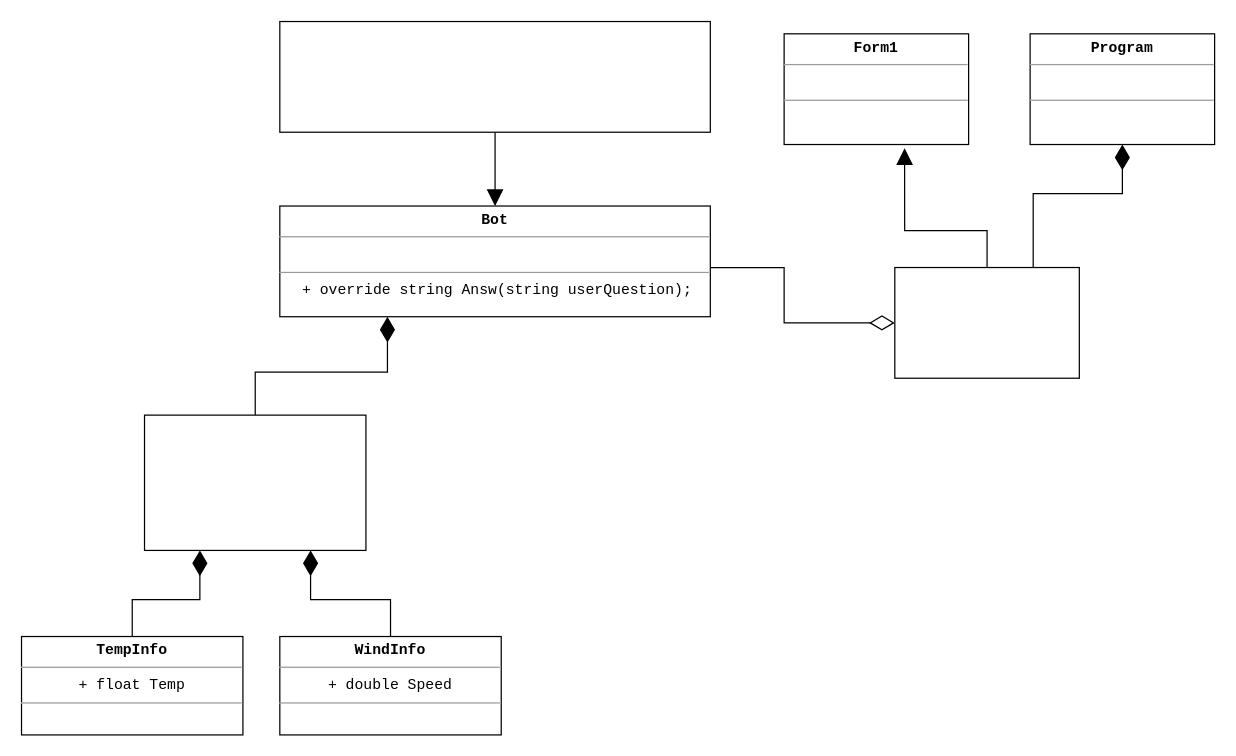
Image size: 1236x756. Some labels were removed from this diagram. The shapes that lost their labels are listed below. From the top down, each one's box as (x1, y1, x2, y2) in pixels, then its label:
(279, 20, 710, 132): AbstractChatBot + abstract string Answ(string userQuestion);
(894, 266, 1079, 378): logForm
(143, 414, 366, 550): WeatherResponse + TempInfo Main + string Name + WindInfo Wind
